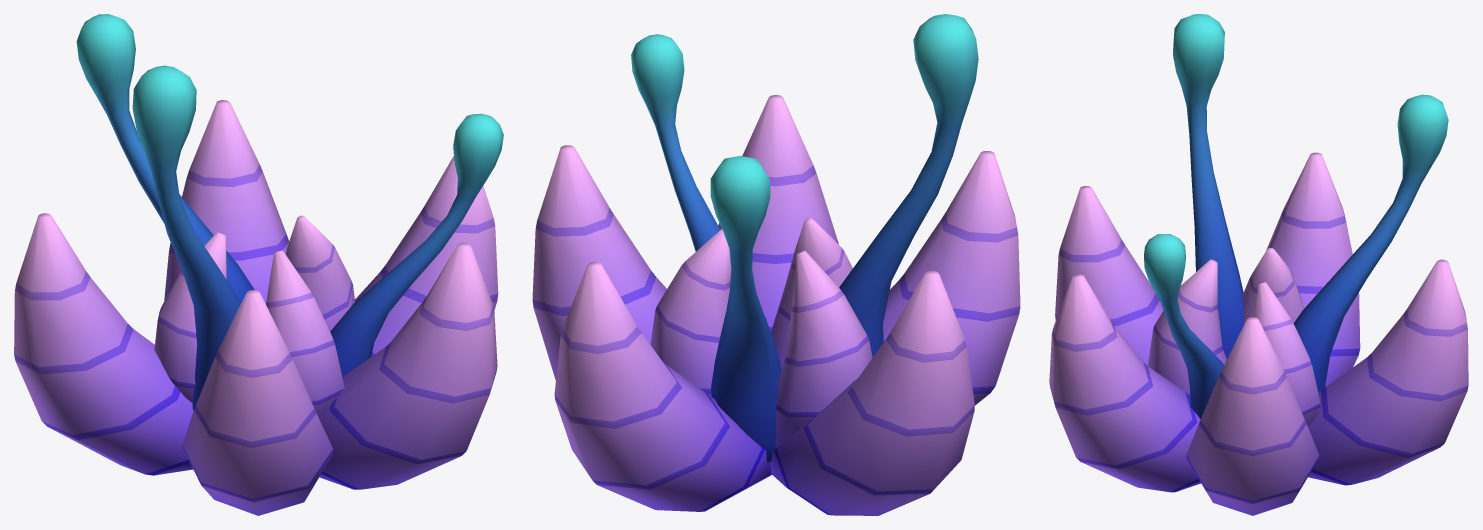
The model's file is anp_PlantFlower_4.fbx.
The picture shows the model from 3 angles, left to right: view 1: azimuth 30°, elevation 25°; view 2: azimuth 150°, elevation 25°; view 3: azimuth 270°, elevation 25°; orthographic projection. The views are drawn at different scales.
Parts seen in each view (by area): view 1: pf4; view 2: pf4; view 3: pf4.
Part boxes in pixels (x1,y1,x2,y2): pf4: (14, 14, 503, 515); pf4: (532, 14, 1020, 515); pf4: (1049, 14, 1468, 515).
Bounding box in the file's own units: 122 × 118 × 115.
